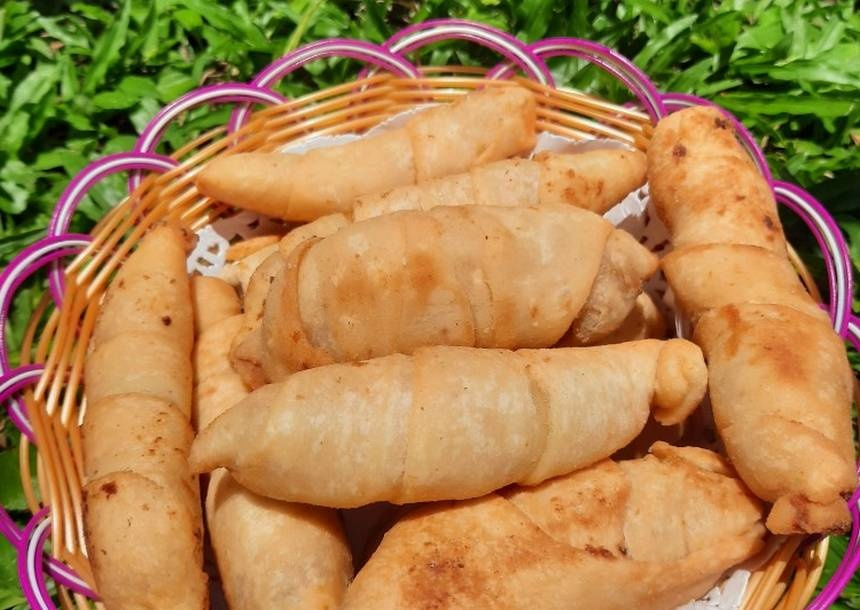pisang_molen: (186, 343, 730, 508), (651, 106, 854, 529), (80, 225, 217, 602), (193, 83, 542, 226)
